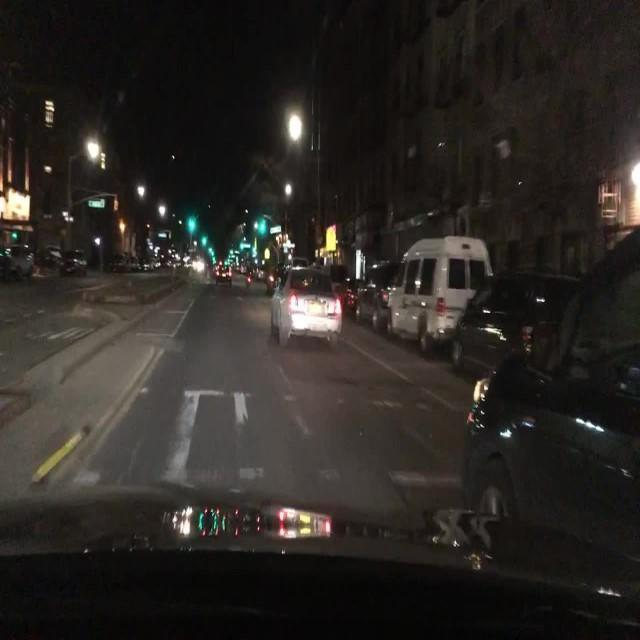normal: (451, 270, 590, 375), (386, 233, 493, 357), (268, 264, 345, 347)
